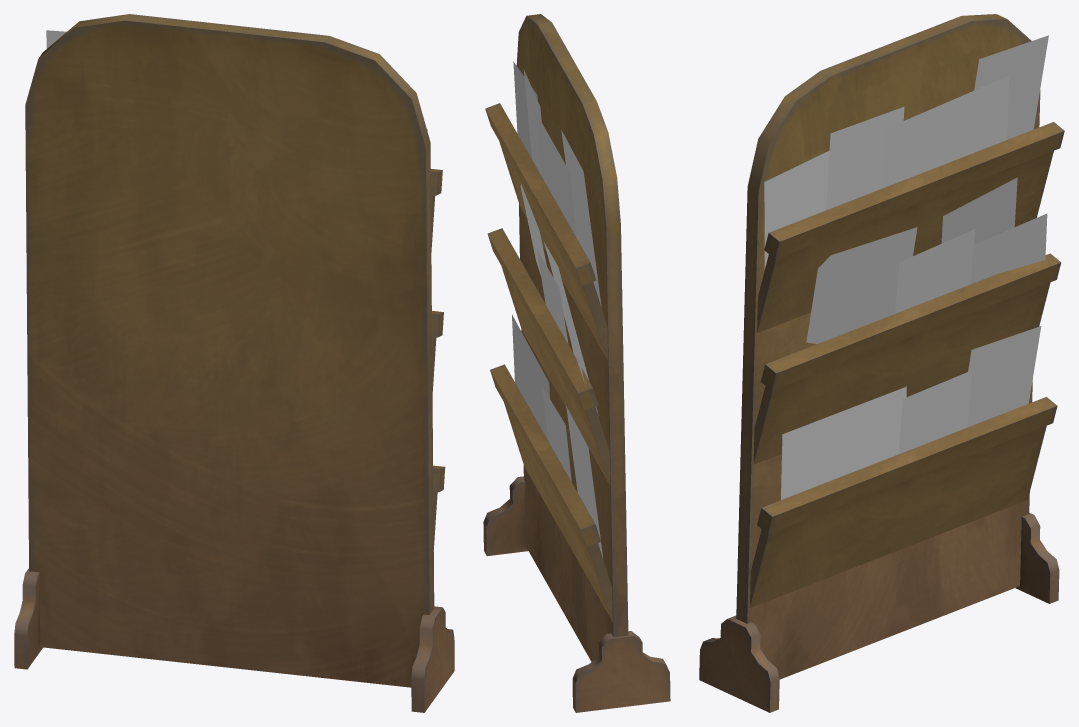
Rendered from PrensentoirKioskS2.fbx.
The picture shows the model from 3 angles, left to right: view 1: azimuth 30°, elevation 25°; view 2: azimuth 150°, elevation 25°; view 3: azimuth 270°, elevation 25°; orthographic projection. The views are drawn at different scales.
Parts seen in each view (by area): view 1: polySurface3; view 2: polySurface3; view 3: polySurface3.
Part boxes in pixels (bbox=[...]): polySurface3: bbox=[14, 14, 454, 712]; polySurface3: bbox=[483, 14, 670, 712]; polySurface3: bbox=[699, 14, 1064, 712].
Bounding box in the file's own units: 109 × 206 × 114.
